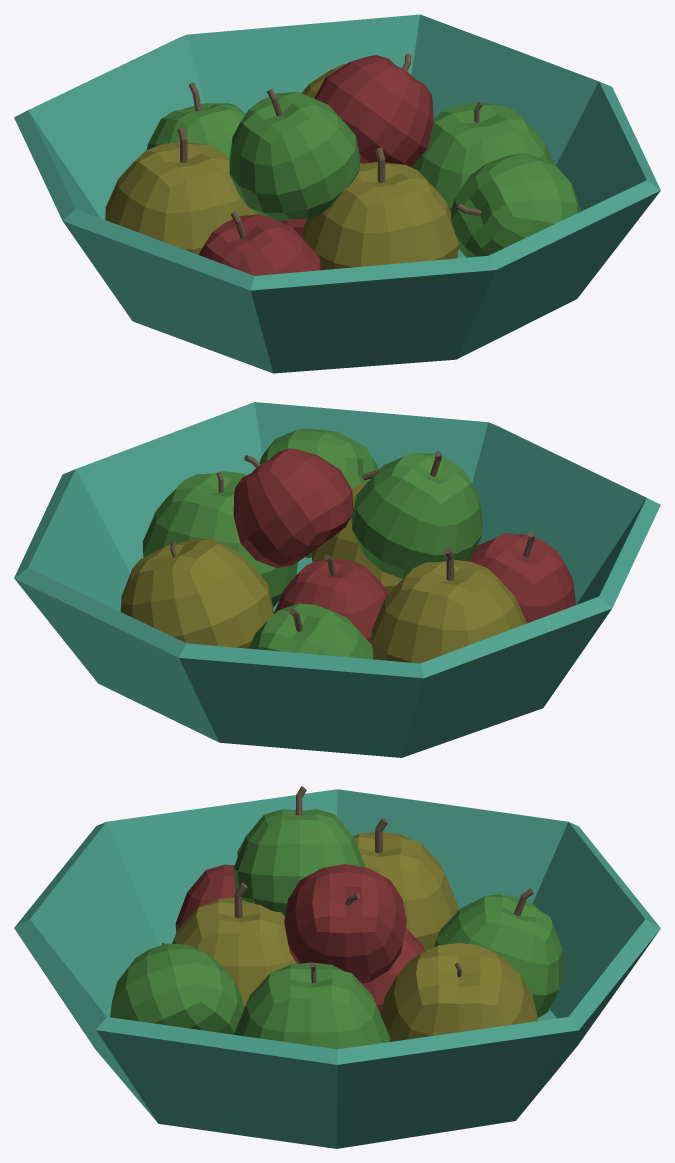
Rendered from Plate_with_apples_2.fbx.
3 views of the same model, one above another, from view 1: azimuth 30°, elevation 25°; view 2: azimuth 150°, elevation 25°; view 3: azimuth 270°, elevation 25° (orthographic).
Visible parts, largest first — view 1: Plate_with_apples_2; view 2: Plate_with_apples_2; view 3: Plate_with_apples_2.
Part boxes in pixels (left/top/right/bottom): Plate_with_apples_2: left=14, top=14, right=660, bottom=373; Plate_with_apples_2: left=14, top=402, right=660, bottom=757; Plate_with_apples_2: left=14, top=786, right=660, bottom=1148.
Size of the model in its own units: 29.88 by 29.87 by 11.31.
